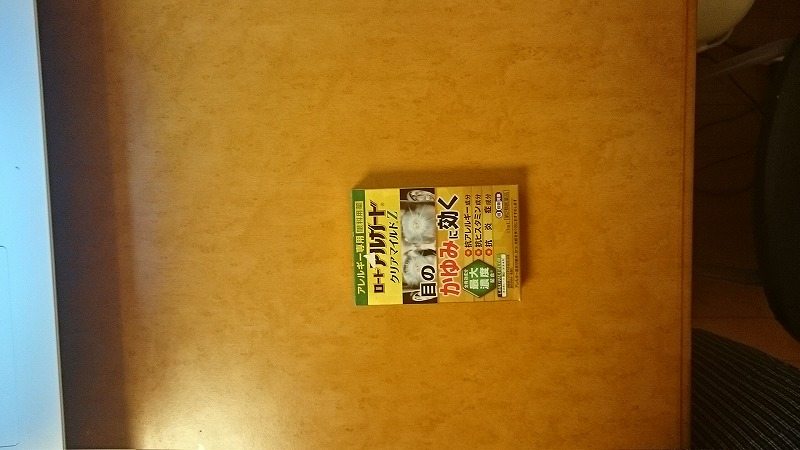C: (345, 183, 523, 308)
